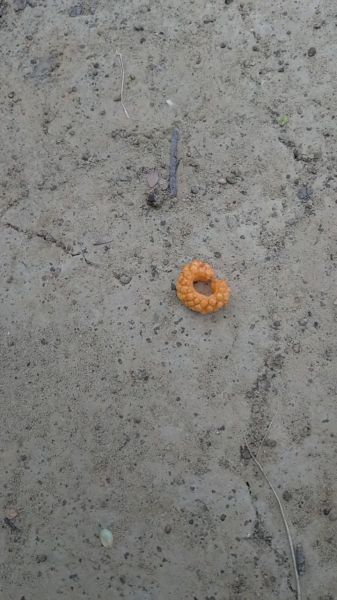eggs: (174, 254, 234, 316)
